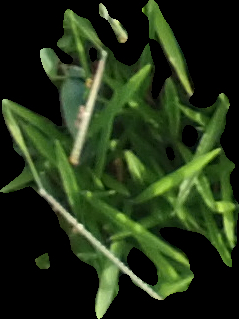grass: (1, 1, 238, 317)
